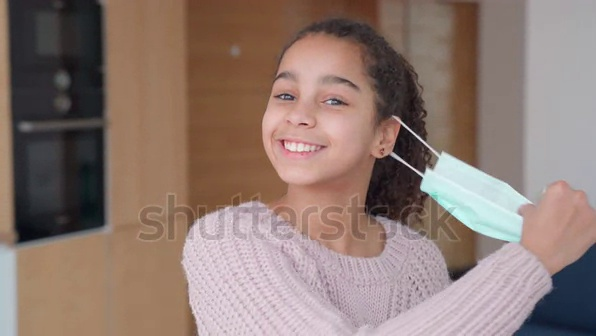No Mask: (246, 111, 378, 190)
